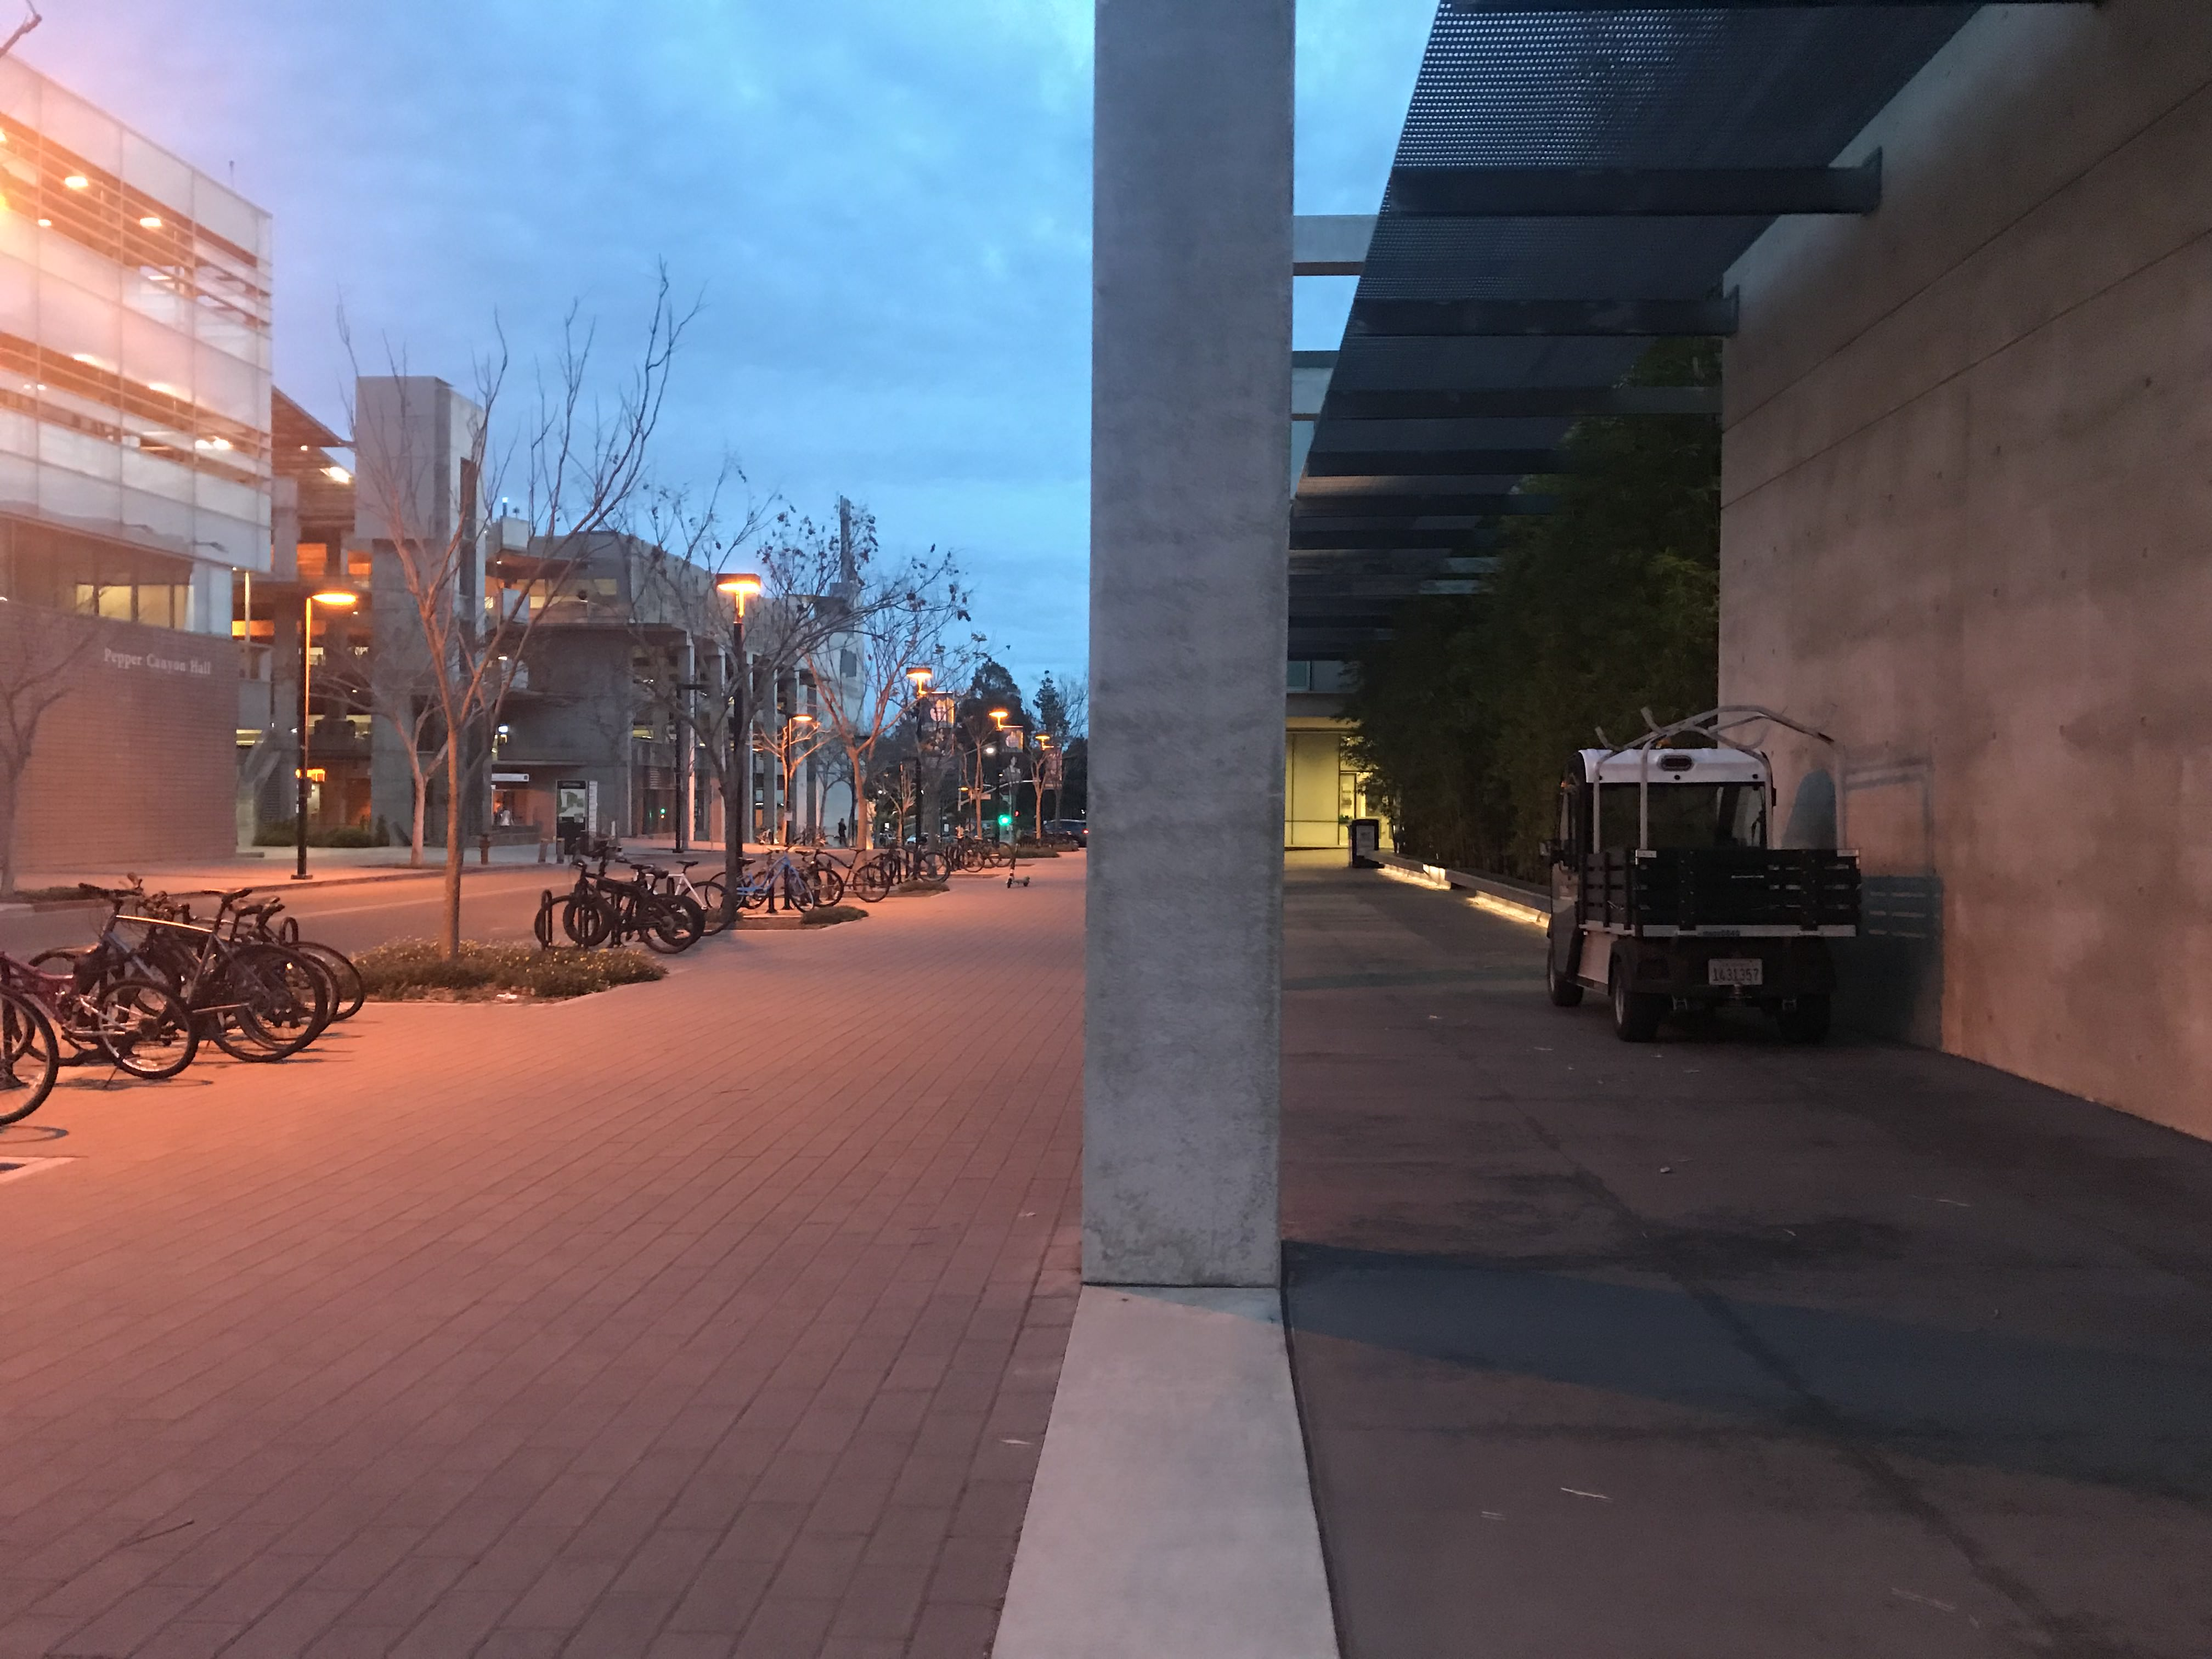Obstacle: (1080, 0, 1292, 1281), (1555, 732, 1855, 1042), (3, 890, 390, 1119), (521, 812, 712, 964)
